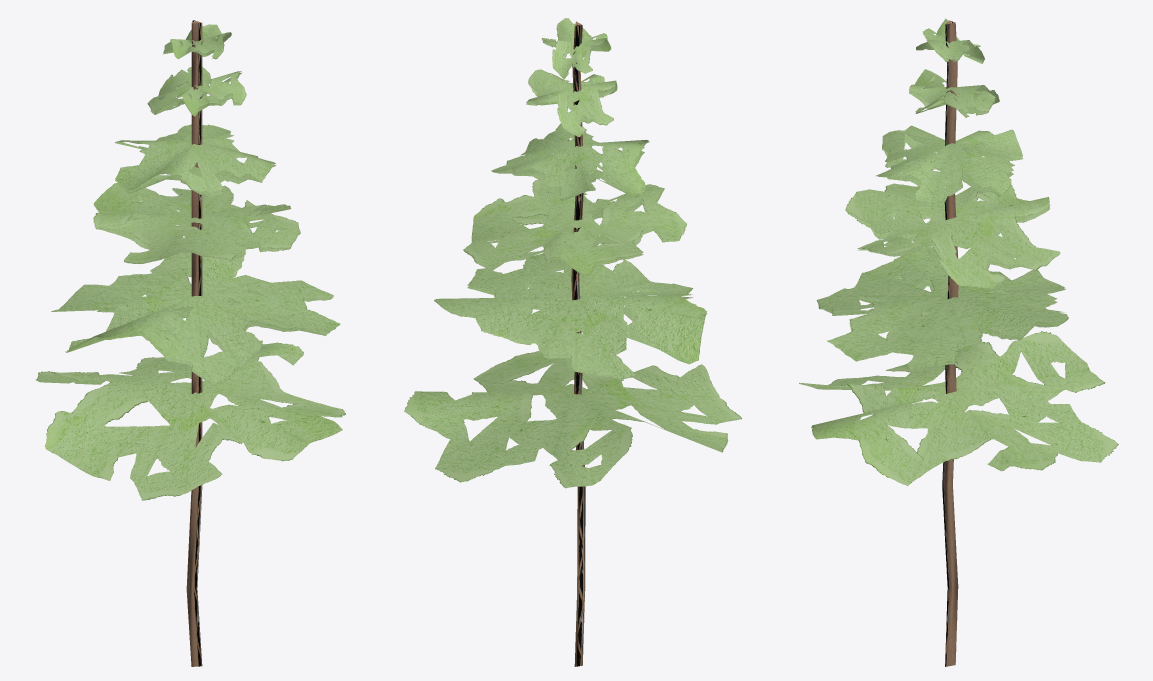
File: Tree2.fbx
The picture shows the model from 3 angles, left to right: view 1: azimuth 30°, elevation 25°; view 2: azimuth 150°, elevation 25°; view 3: azimuth 270°, elevation 25°; orthographic projection.
Parts seen in each view (by area): view 1: pasted__pasted__pCylinder6 (×2), pasted__pCylinder6 (×2), pCylinder7, pasted__pasted__pasted__pasted__pCylinder6, pasted__pasted__pasted__pCylinder6; view 2: pasted__pasted__pCylinder6 (×2), pasted__pCylinder6 (×2), pasted__pasted__pasted__pasted__pCylinder6, pCylinder7, pasted__pasted__pasted__pCylinder6; view 3: pasted__pasted__pCylinder6 (×2), pasted__pCylinder6 (×2), pCylinder7, pasted__pasted__pasted__pasted__pCylinder6, pasted__pasted__pasted__pCylinder6.
Part boxes in pixels (<box>): pasted__pasted__pCylinder6 (×2): <box>36,183,345,500</box>; pasted__pCylinder6 (×2): <box>51,124,340,385</box>; pCylinder7: <box>186,20,202,666</box>; pasted__pasted__pasted__pasted__pCylinder6: <box>147,67,246,116</box>; pasted__pasted__pasted__pCylinder6: <box>163,24,231,59</box>; pasted__pasted__pCylinder6 (×2): <box>404,179,741,488</box>; pasted__pCylinder6 (×2): <box>434,123,706,379</box>; pasted__pasted__pasted__pasted__pCylinder6: <box>526,69,617,137</box>; pCylinder7: <box>571,21,585,666</box>; pasted__pasted__pasted__pCylinder6: <box>542,18,611,79</box>; pasted__pasted__pCylinder6 (×2): <box>799,183,1118,485</box>; pasted__pCylinder6 (×2): <box>816,125,1068,370</box>; pCylinder7: <box>942,20,958,666</box>; pasted__pasted__pasted__pasted__pCylinder6: <box>909,69,999,117</box>; pasted__pasted__pasted__pCylinder6: <box>916,18,984,63</box>.
Bounding box in the file's own units: 130 × 264 × 136.
